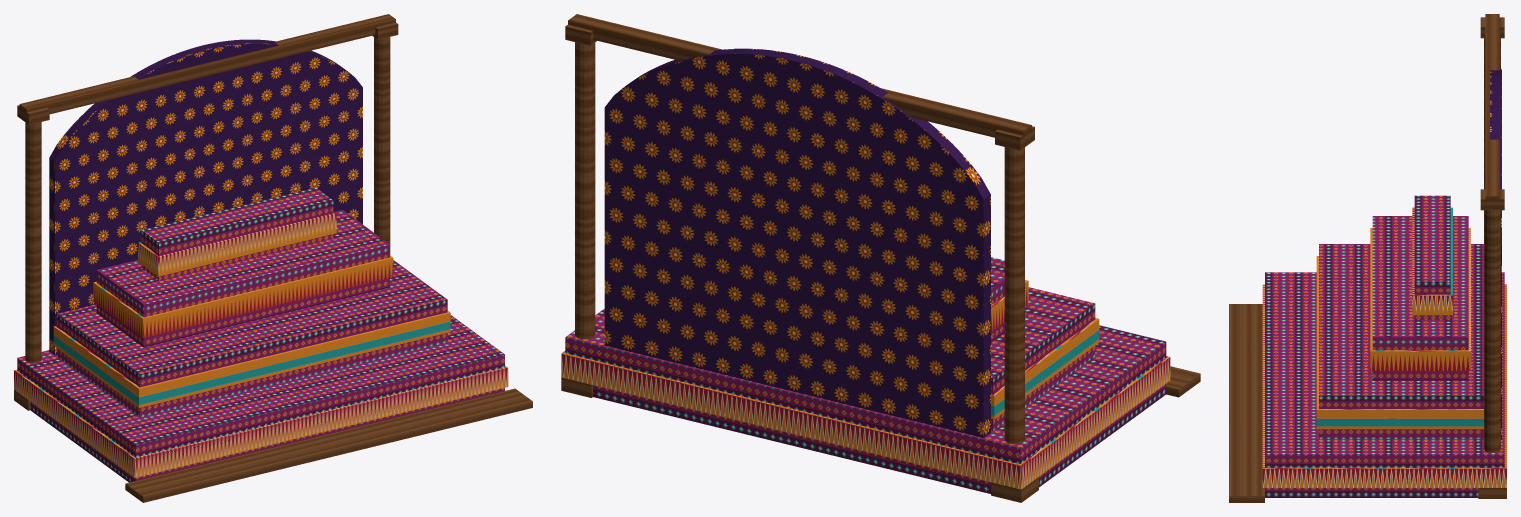
Rendered from altar_mayor.obj.
3 renders of one model, left to right at view 1: azimuth 30°, elevation 25°; view 2: azimuth 150°, elevation 25°; view 3: azimuth 270°, elevation 25°, orthographic. The views are drawn at different scales.
Parts seen in each view (by area): view 1: altar_mayor; view 2: altar_mayor; view 3: altar_mayor.
Boxes of the visible parts, bbox=[...] form: altar_mayor: bbox=[14, 14, 532, 502]; altar_mayor: bbox=[561, 14, 1200, 502]; altar_mayor: bbox=[1229, 14, 1506, 502].
Size of the model in its own units: 3.8 by 2.9 by 2.32.
4 materials, 4 textured.
